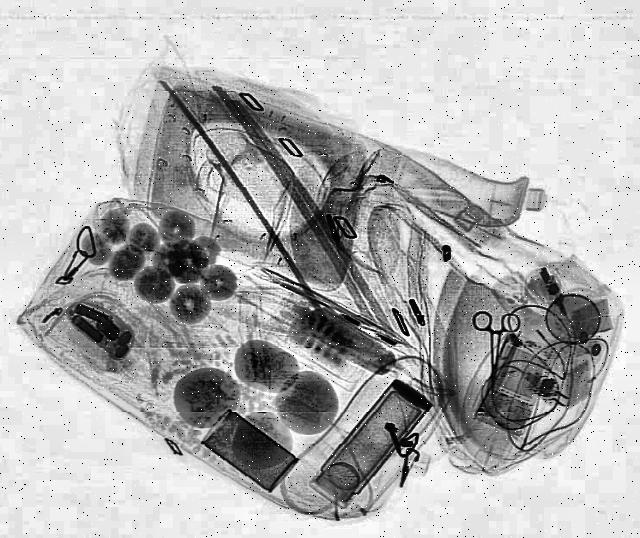Scissors: (472, 311, 522, 388)
